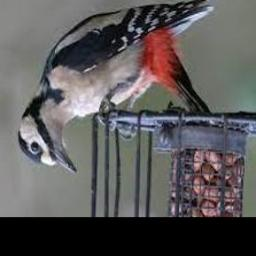Woodpecker: (17, 0, 214, 174)
